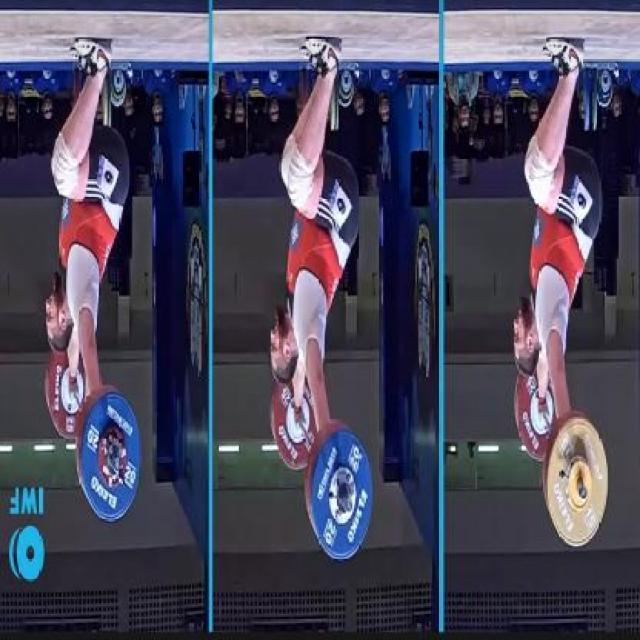Barbell: (576, 478, 589, 504), (342, 494, 356, 518), (111, 450, 122, 476)
